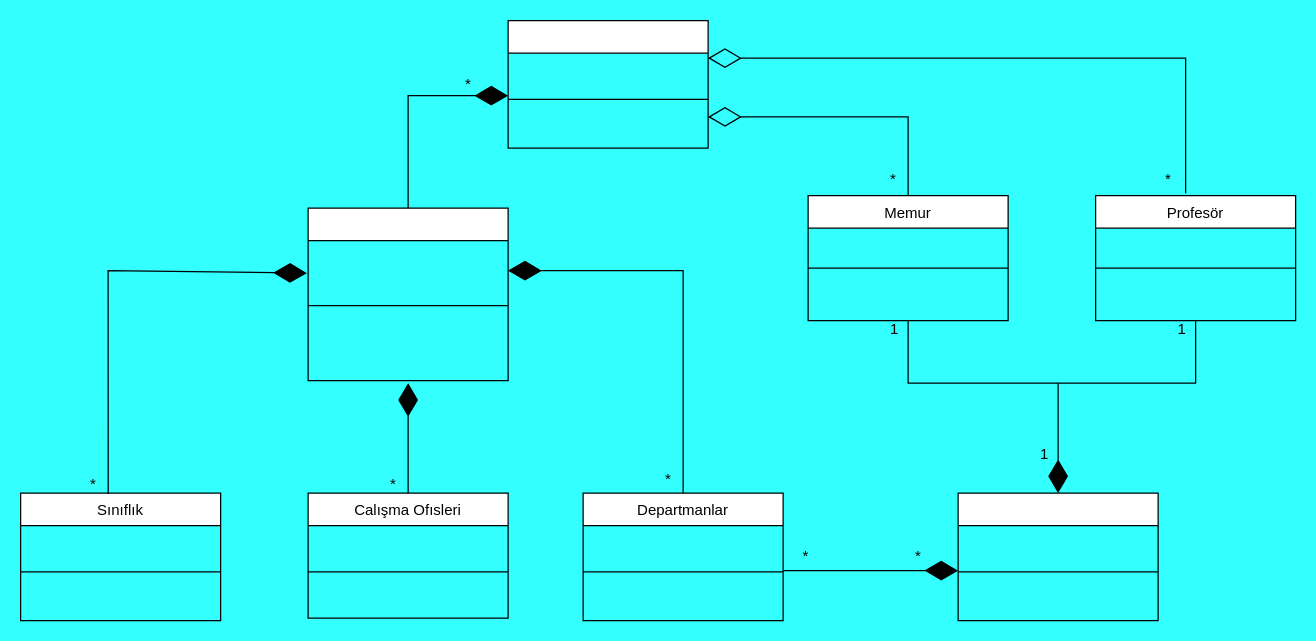
Some shapes in this 1316 by 641 pixel diagram are drawn without their labels. The shapes that lost their labels are listed below. From the top down, each one's centre as x and y in pixels, then its label:
[607,83]: Çalışanlar
[407,294]: Universite
[1057,556]: Ofisler
